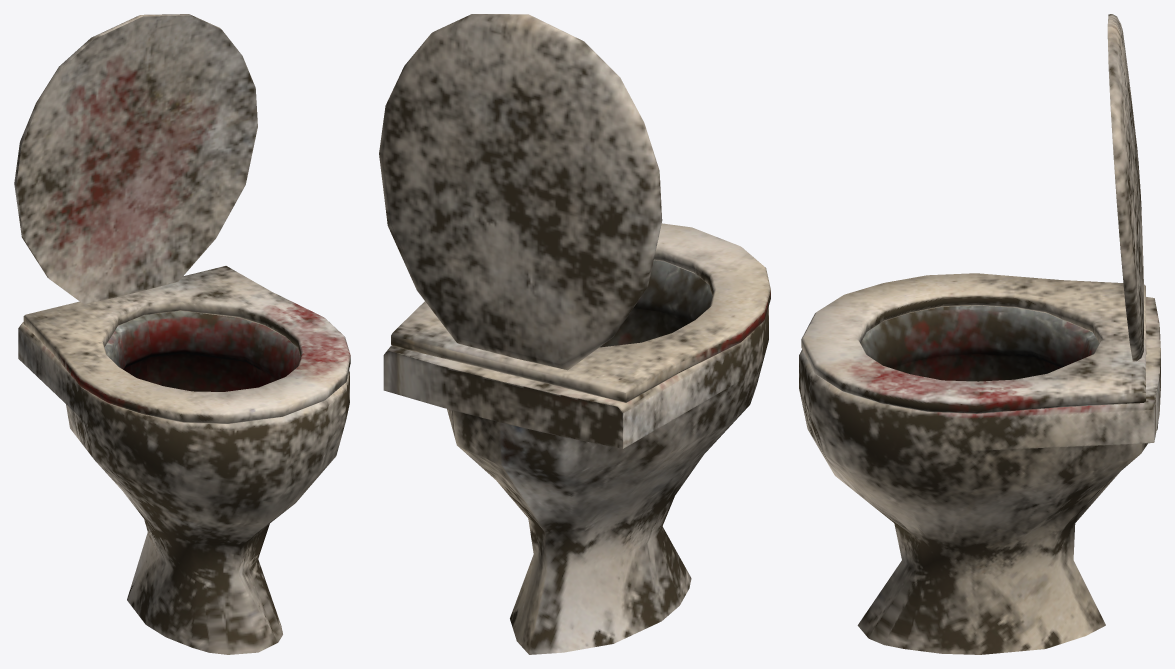
File: Toilet.FBX
3 views of the same model, side by side, from view 1: azimuth 30°, elevation 25°; view 2: azimuth 150°, elevation 25°; view 3: azimuth 270°, elevation 25° (orthographic). The views are drawn at different scales.
Visible parts, largest first — view 1: Toilet, SeatCover, ToiletSeat; view 2: SeatCover, Toilet, ToiletSeat; view 3: Toilet, ToiletSeat, SeatCover.
Part boxes in pixels (x1,y1,x2,y2): Toilet: (18,311,349,654); SeatCover: (14,14,257,304); ToiletSeat: (23,266,350,423); SeatCover: (379,14,662,370); Toilet: (383,260,768,654); ToiletSeat: (391,223,770,402); Toilet: (799,297,1160,654); ToiletSeat: (801,273,1146,413); SeatCover: (1107,14,1143,361).
Size of the model in its own units: 52.96 by 114 by 62.27.
Materials: 1 (1 with a texture image).
